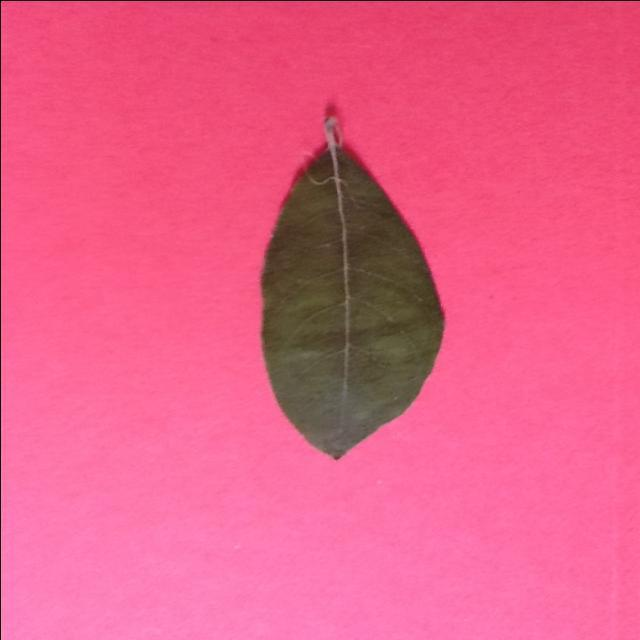foliage: (258, 110, 446, 462)
